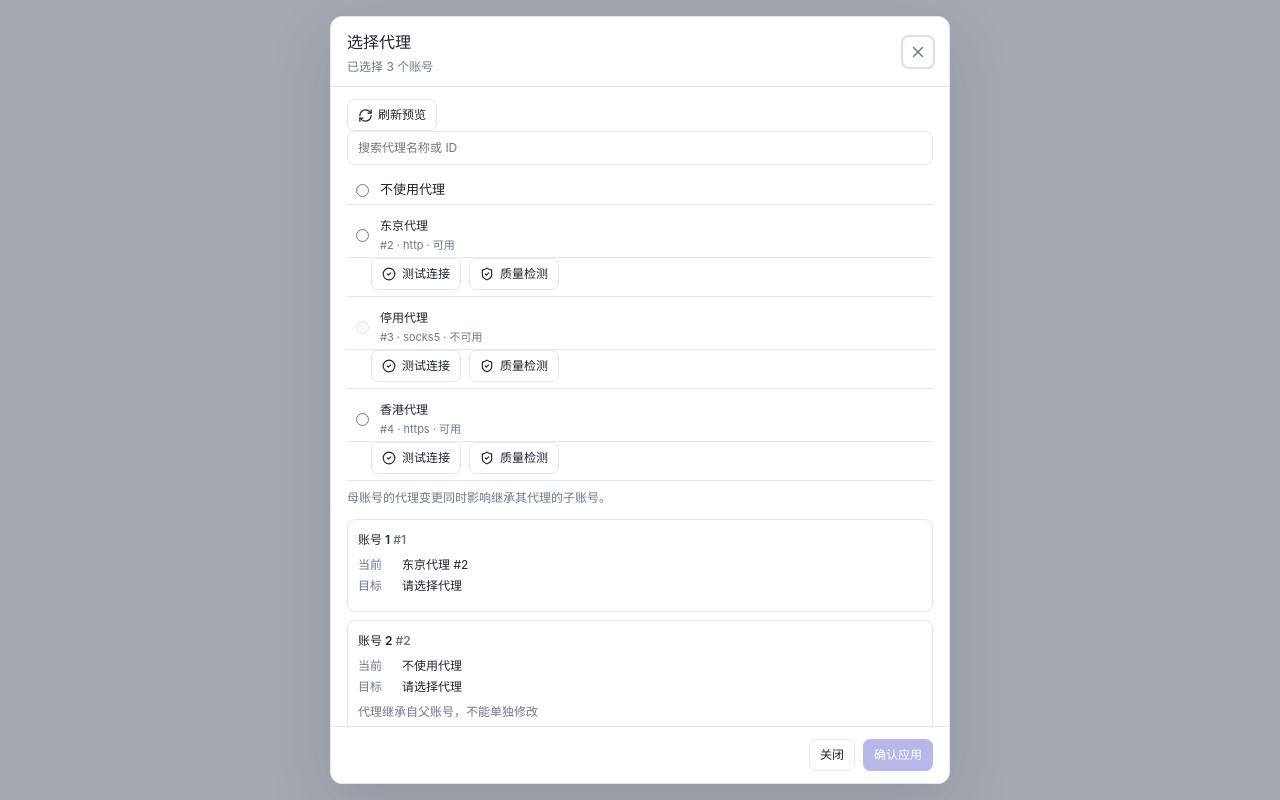
Test: proxy batch dialog › submits a mixed eligible batch and renders no-change and ineligible results per account
Click the radio button labelled "东京代理 #2 · http · 可用": (362, 236) [356,229,369,242]
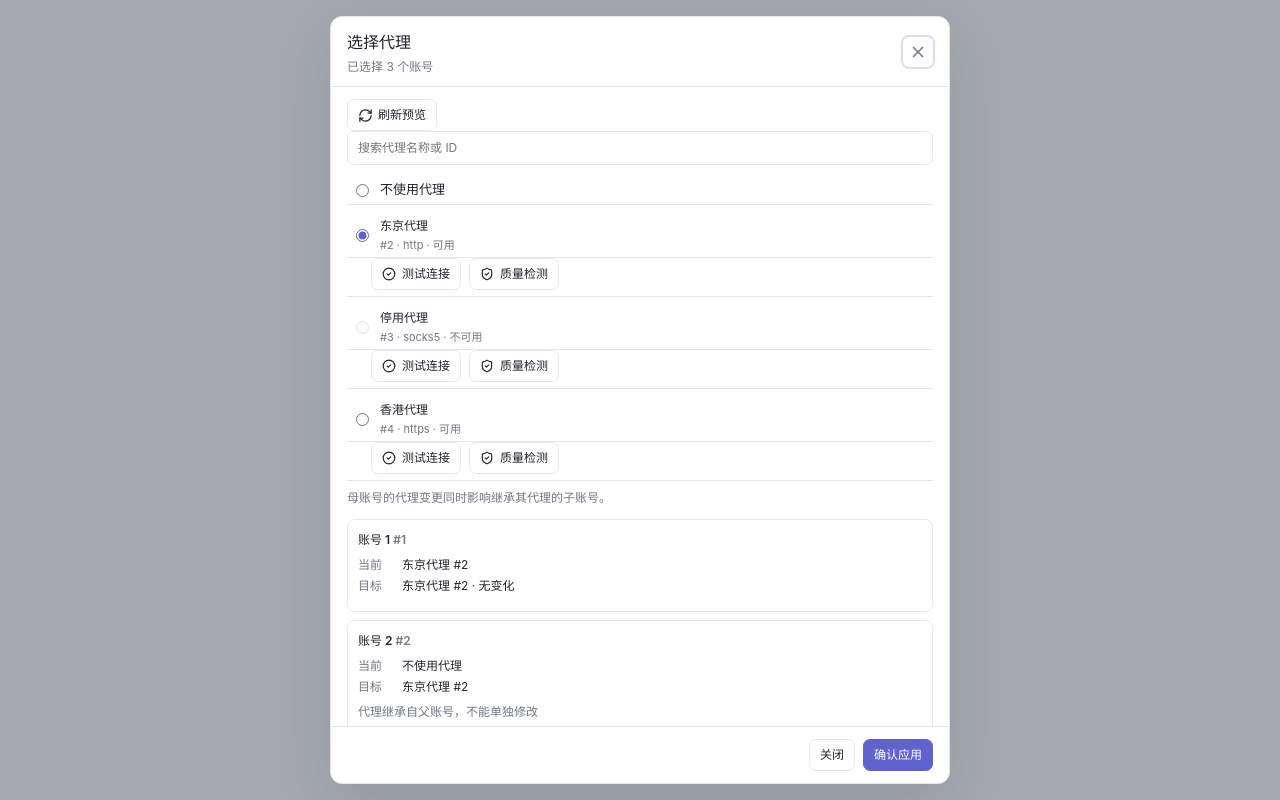
Click the button "确认应用": (898, 755) [863,739,933,771]
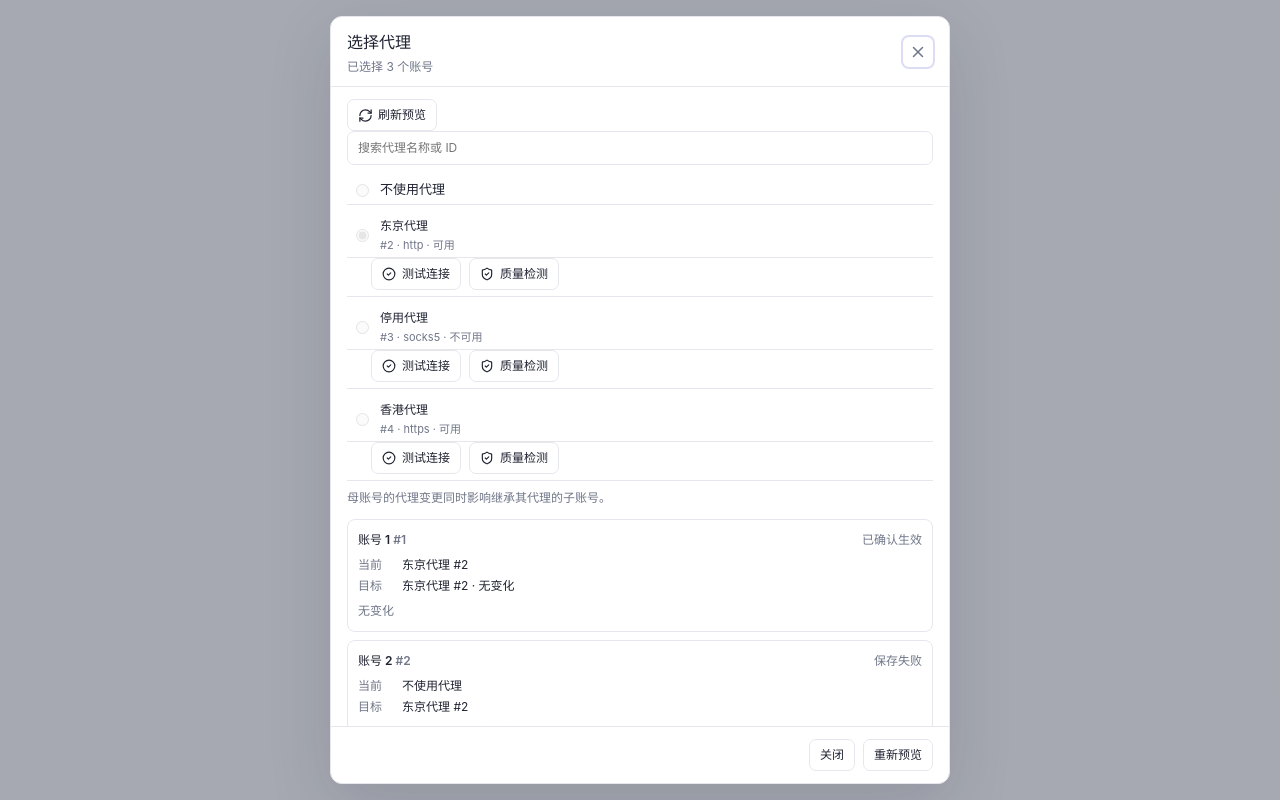
expect the text "无变化" is shown: met, box [468,578,514,593]
expect the text "已确认生效" is shown: met, box [862,530,922,547]
